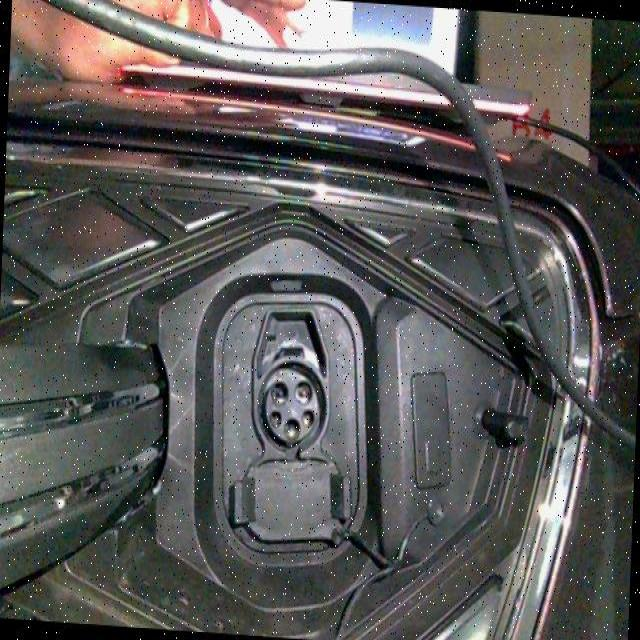Type 1: (255, 360, 328, 456)
